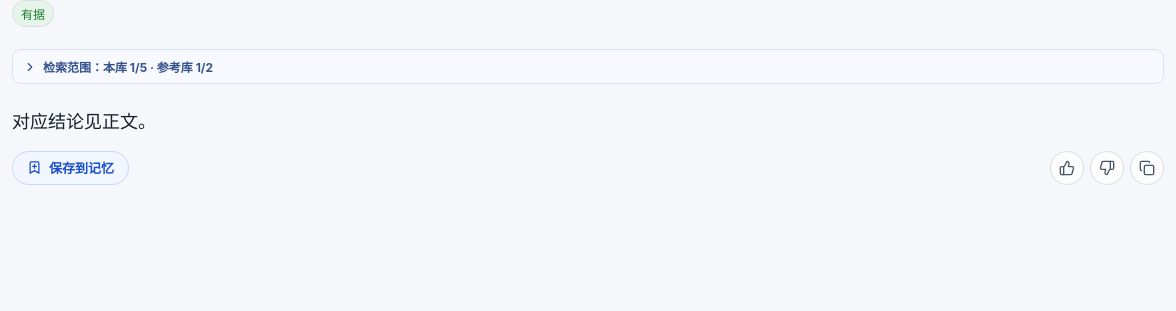
范围回执双段披露本库与参考库,并逐个列出参考库的参与情况
Expected: the text "检索范围：本库 1/5 · 参考库 1/2" is shown, [12,49,1164,84]
Click the heading "检索范围：本库 1/5 · 参考库 1/2" at (118, 67), box [23,60,213,75]
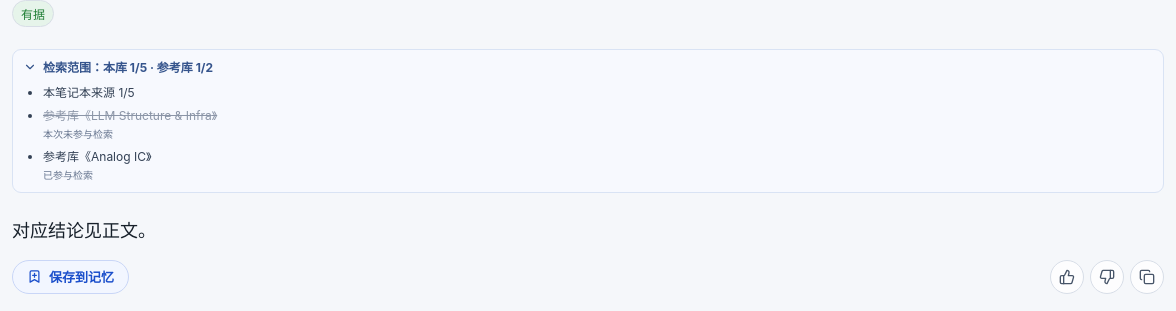
Expected: the text "本笔记本来源 1/5" is shown, [43,85,135,100]
Expected: the text "参考库《LLM Structure & Infra》" is shown, [43,108,217,123]
Expected: the text "本次未参与检索" is shown, [43,128,113,140]
